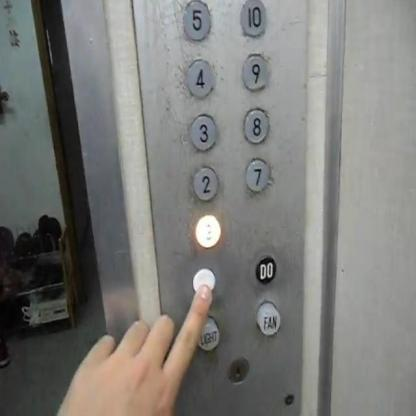10: (239, 0, 267, 34)
2: (193, 166, 217, 200)
3: (190, 113, 215, 150)
4: (185, 58, 213, 97)
5: (182, 0, 210, 40)
7: (245, 158, 268, 190)
8: (243, 106, 269, 143)
9: (241, 51, 268, 91)
DO: (254, 253, 276, 283)
blur: (194, 213, 220, 247)
empty: (192, 267, 215, 295)
text_FAN: (255, 301, 281, 336)
text_light: (194, 317, 218, 349)
